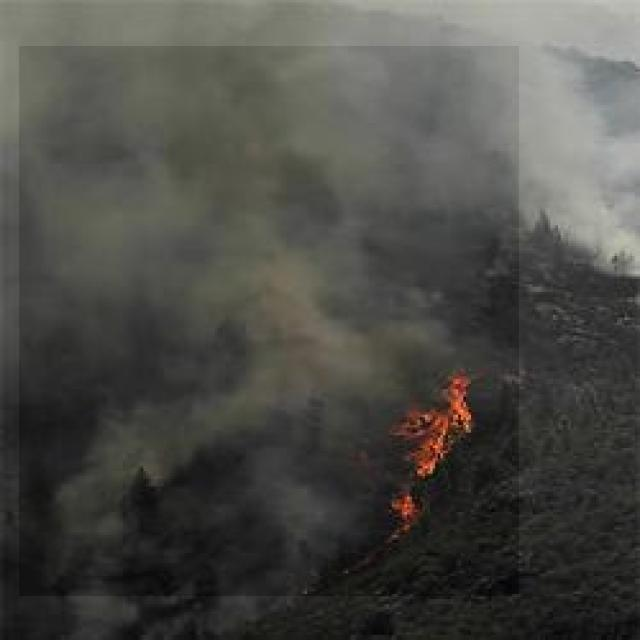Fire: (389, 369, 482, 518)
Smoke: (19, 46, 519, 596)
